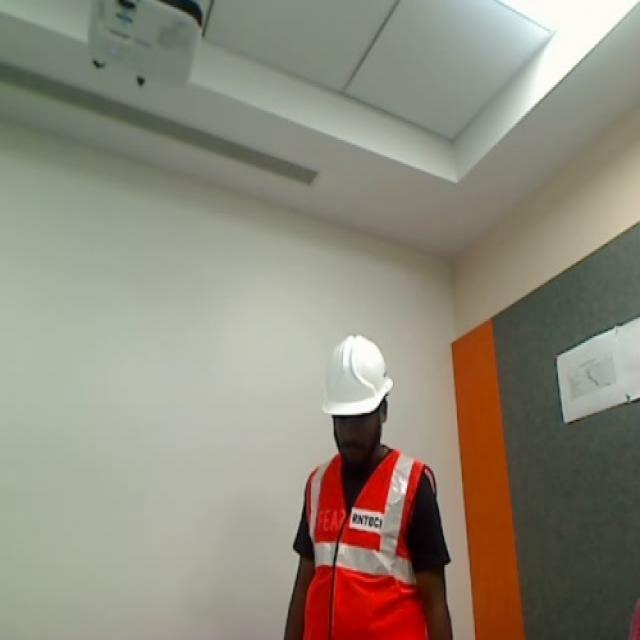safety_helmet: (300, 452, 444, 640)
